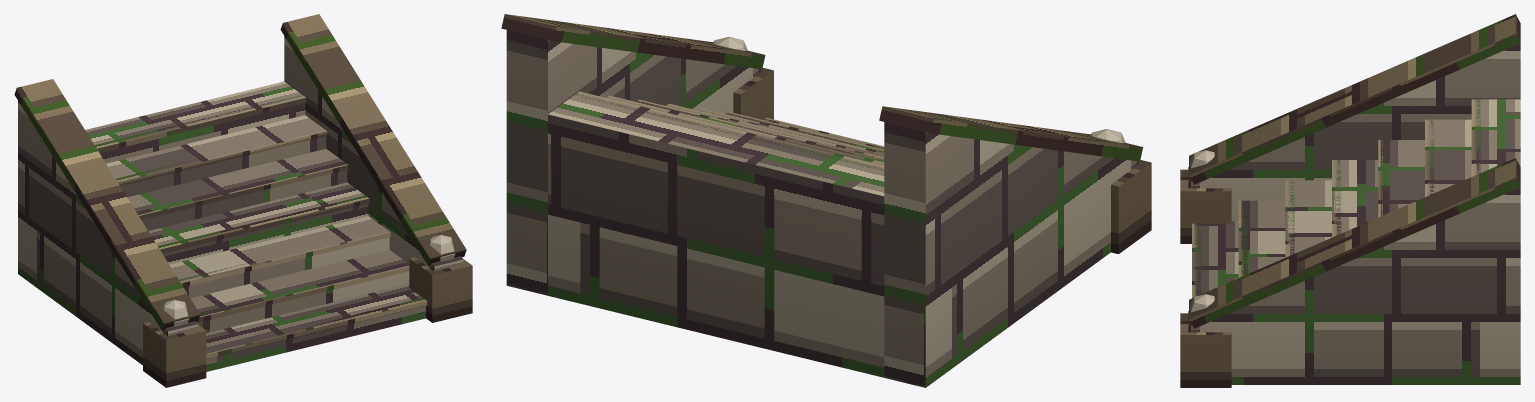
Rendered from scene_stair_plat_o8.glb.
3 renders of one model, left to right at view 1: azimuth 30°, elevation 25°; view 2: azimuth 150°, elevation 25°; view 3: azimuth 270°, elevation 25°, orthographic. The views are drawn at different scales.
Visible parts, largest first — view 1: scene_stair_plat_o8; view 2: scene_stair_plat_o8; view 3: scene_stair_plat_o8.
Boxes of the visible parts, box(x1,y1,x2,y2) form: scene_stair_plat_o8: box(14, 14, 472, 387); scene_stair_plat_o8: box(501, 14, 1151, 387); scene_stair_plat_o8: box(1180, 14, 1520, 387).
Bounding box in the file's own units: 3.36 × 1.98 × 2.92.
Materials: 2 (1 with a texture image).
